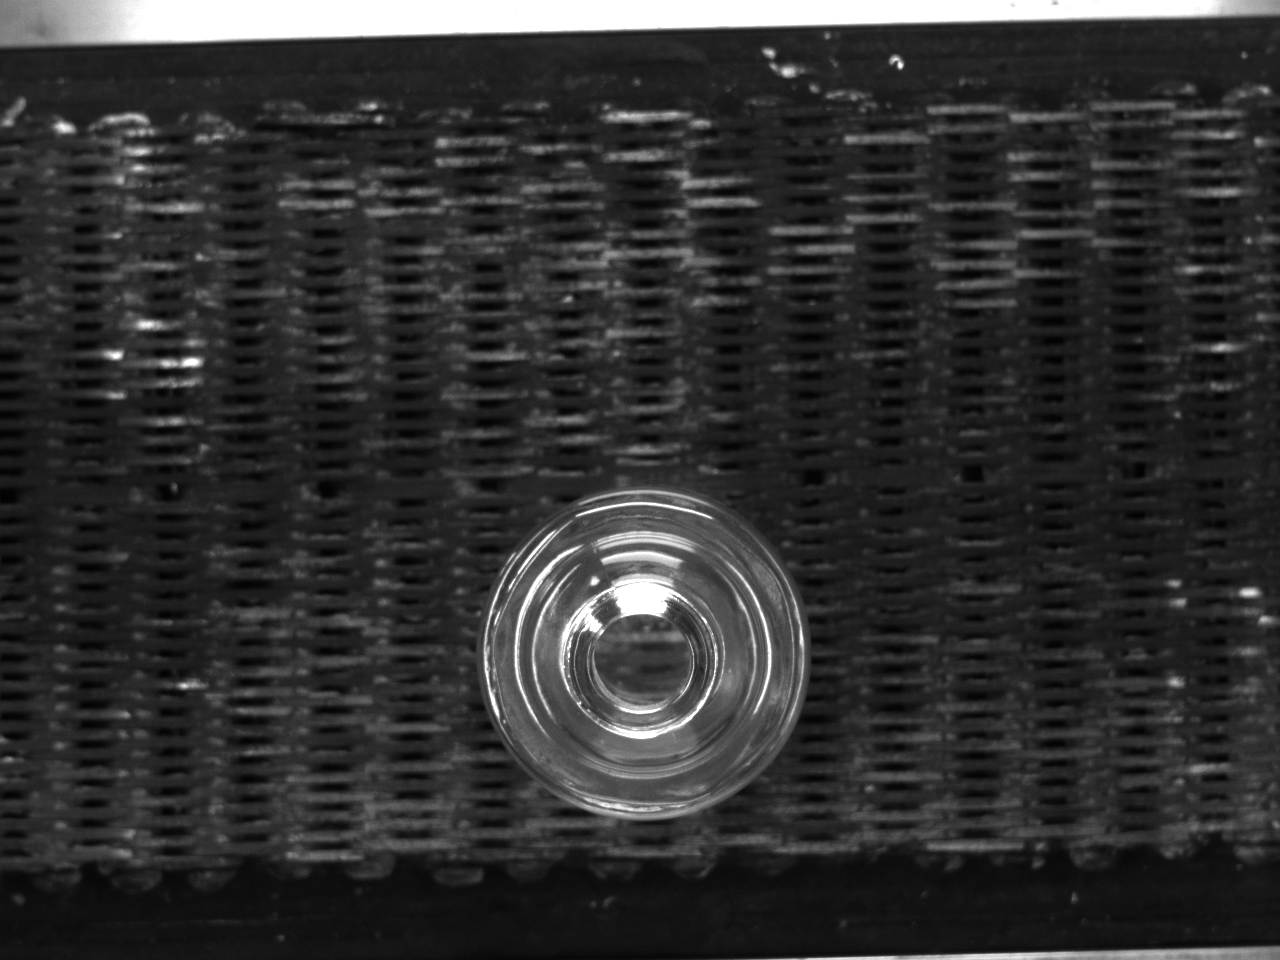bottleneck: (562, 581, 722, 740)
